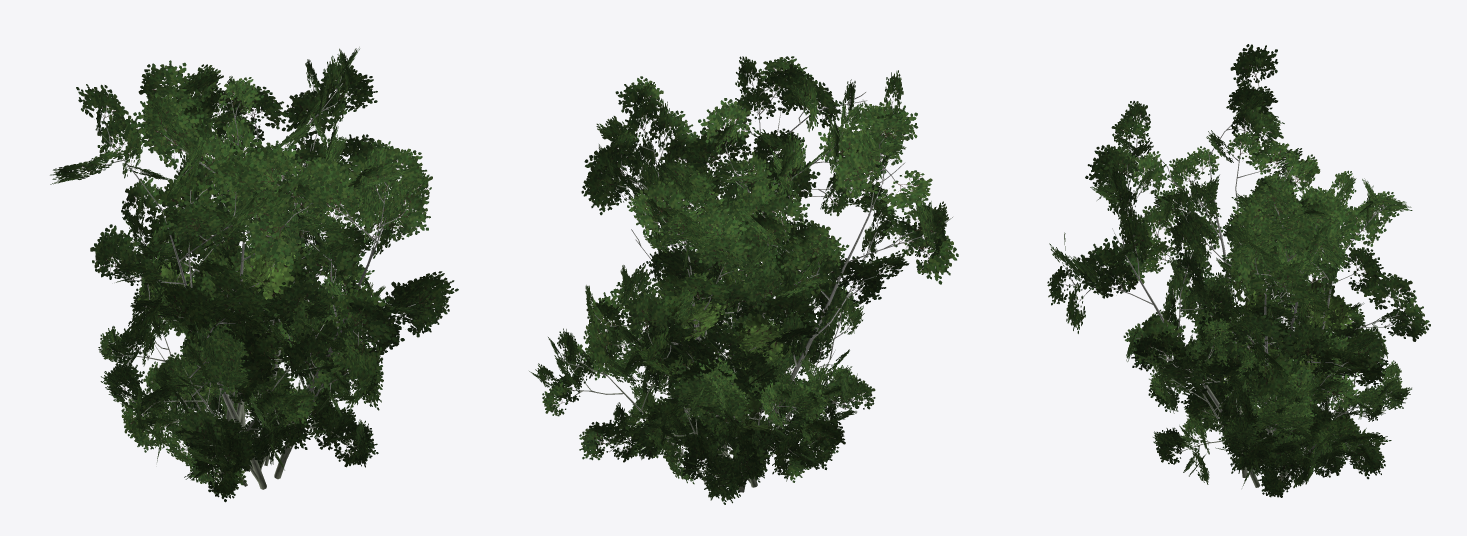
File: env_shrubs.glb
The picture shows the model from 3 angles, left to right: view 1: azimuth 30°, elevation 25°; view 2: azimuth 150°, elevation 25°; view 3: azimuth 270°, elevation 25°; orthographic projection. The views are drawn at different scales.
Parts seen in each view (by area): view 1: SHRUB_Hazel_MultiStem, SHRUB_Spicebush_Dense, SAPLING_Beech; view 2: SHRUB_Hazel_MultiStem, SHRUB_Spicebush_Dense, SAPLING_Beech; view 3: SHRUB_Hazel_MultiStem, SHRUB_Spicebush_Dense, SAPLING_Beech.
Boxes of the visible parts, x1,y1,x2,y2 form: SHRUB_Hazel_MultiStem: (50, 47, 458, 489); SHRUB_Spicebush_Dense: (98, 214, 395, 502); SAPLING_Beech: (137, 228, 300, 457); SHRUB_Hazel_MultiStem: (581, 56, 958, 492); SHRUB_Spicebush_Dense: (529, 263, 875, 504); SAPLING_Beech: (655, 236, 794, 458); SHRUB_Hazel_MultiStem: (1047, 44, 1430, 487); SHRUB_Spicebush_Dense: (1148, 287, 1411, 497); SAPLING_Beech: (1223, 267, 1352, 434).
Bounding box in the file's own units: 5.22 × 5.98 × 5.75.
3 materials, 3 textured.
